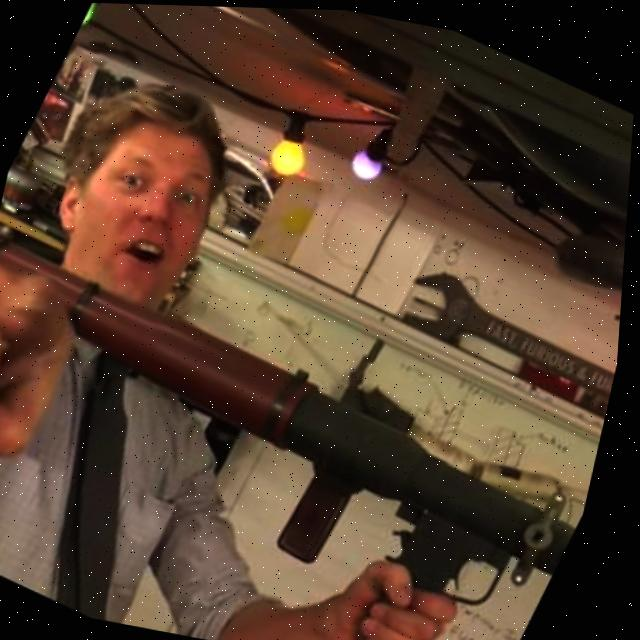rocket: (0, 256, 626, 640)
